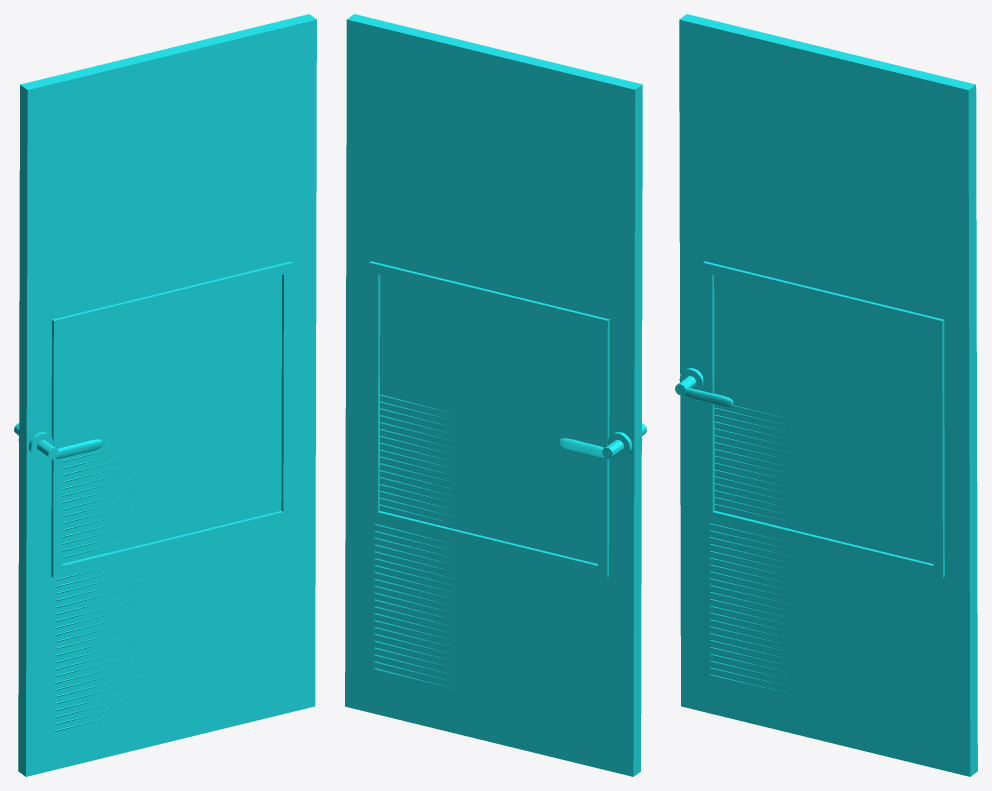
File: door.glb
3 renders of one model, left to right at view 1: azimuth 30°, elevation 25°; view 2: azimuth 150°, elevation 25°; view 3: azimuth 330°, elevation 25°, orthographic.
Parts seen in each view (by area): view 1: door_1, frame_2, cube_3, knob_5; view 2: door_1, frame_2, cube_3, knob_4, knob_6; view 3: door_1, frame_2, cube_3, knob_5, knob_7.
Boxes of the visible parts, left/top/right/bottom form: door_1: left=18, top=14, right=316, bottom=776; frame_2: left=51, top=261, right=293, bottom=577; cube_3: left=55, top=436, right=136, bottom=731; knob_5: left=28, top=432, right=58, bottom=459; door_1: left=345, top=14, right=642, bottom=776; frame_2: left=368, top=261, right=609, bottom=577; cube_3: left=374, top=394, right=454, bottom=687; knob_4: left=602, top=432, right=632, bottom=458; knob_6: left=558, top=438, right=606, bottom=459; door_1: left=679, top=14, right=977, bottom=776; frame_2: left=703, top=261, right=944, bottom=577; cube_3: left=710, top=405, right=790, bottom=692; knob_5: left=675, top=367, right=703, bottom=395; knob_7: left=684, top=388, right=733, bottom=407.
Size of the model in its own units: 0.44 by 1 by 0.0903.
